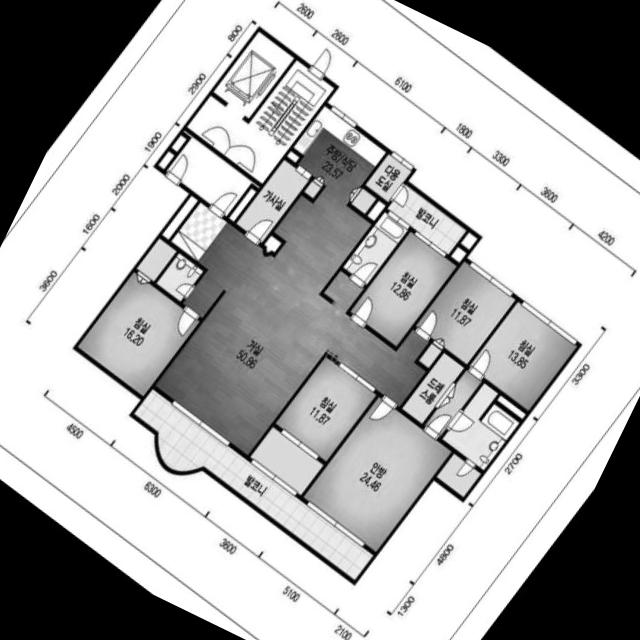background: (0, 0, 640, 640)
space_balconi: (133, 389, 373, 580), (387, 184, 466, 254)
space_bedroom: (303, 397, 451, 552), (77, 238, 199, 396), (249, 356, 376, 495), (349, 231, 456, 347), (468, 302, 576, 410), (415, 261, 515, 368)
space_dressroom: (401, 353, 481, 437)
space_elevator: (212, 31, 294, 119)
space_elevator_hall: (186, 95, 285, 184), (166, 130, 259, 216)
space_front: (170, 202, 227, 261)
space_kitchen: (272, 106, 385, 294)
space_living_room: (154, 223, 428, 455)
space_multipurpose_space: (365, 154, 411, 202)
space_other: (235, 159, 309, 243), (161, 195, 197, 239), (228, 188, 255, 222), (496, 395, 525, 419), (366, 200, 385, 221), (263, 235, 281, 253), (460, 232, 477, 250), (158, 151, 174, 169), (450, 247, 466, 263), (171, 135, 186, 152), (286, 150, 299, 162)
space_staircase: (248, 60, 333, 152)
space_toilet: (436, 383, 519, 497), (342, 212, 407, 284), (155, 253, 203, 301)
